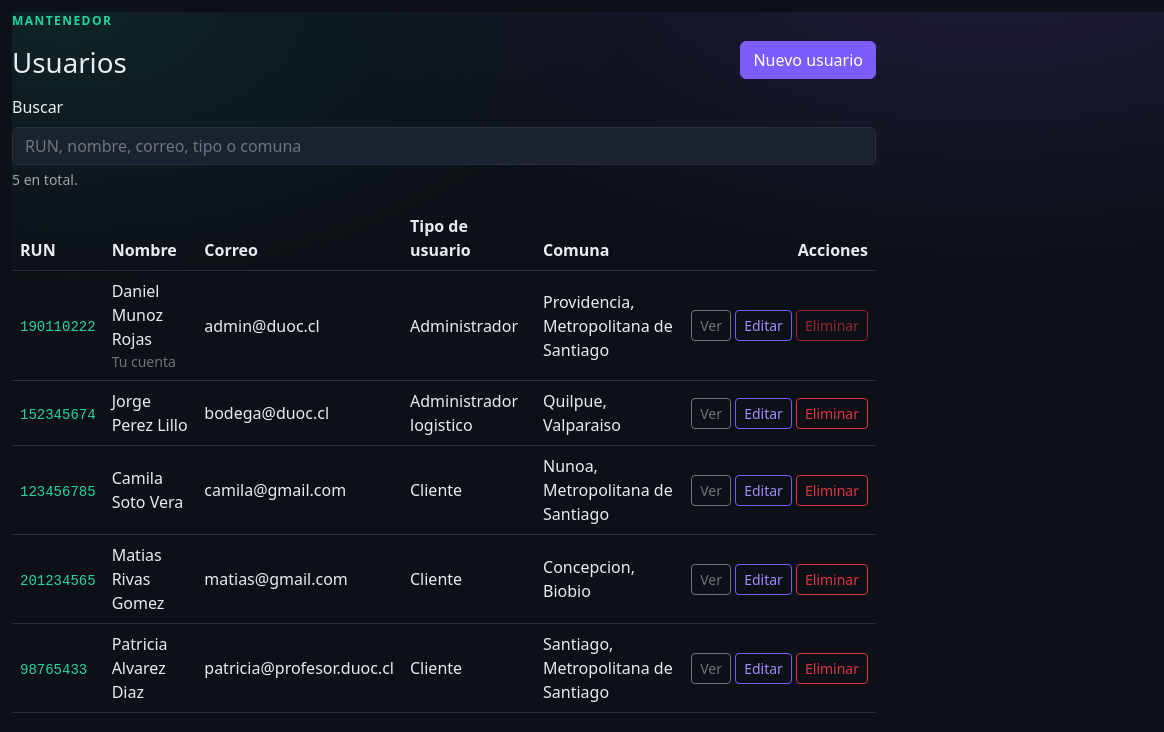
Scenario: admin / Usuarios › la busqueda filtra por nombre, correo, tipo o comuna y actualiza el conteo
In the search field labelled "Buscar": (444, 146) [12,127,876,165], type "matias"
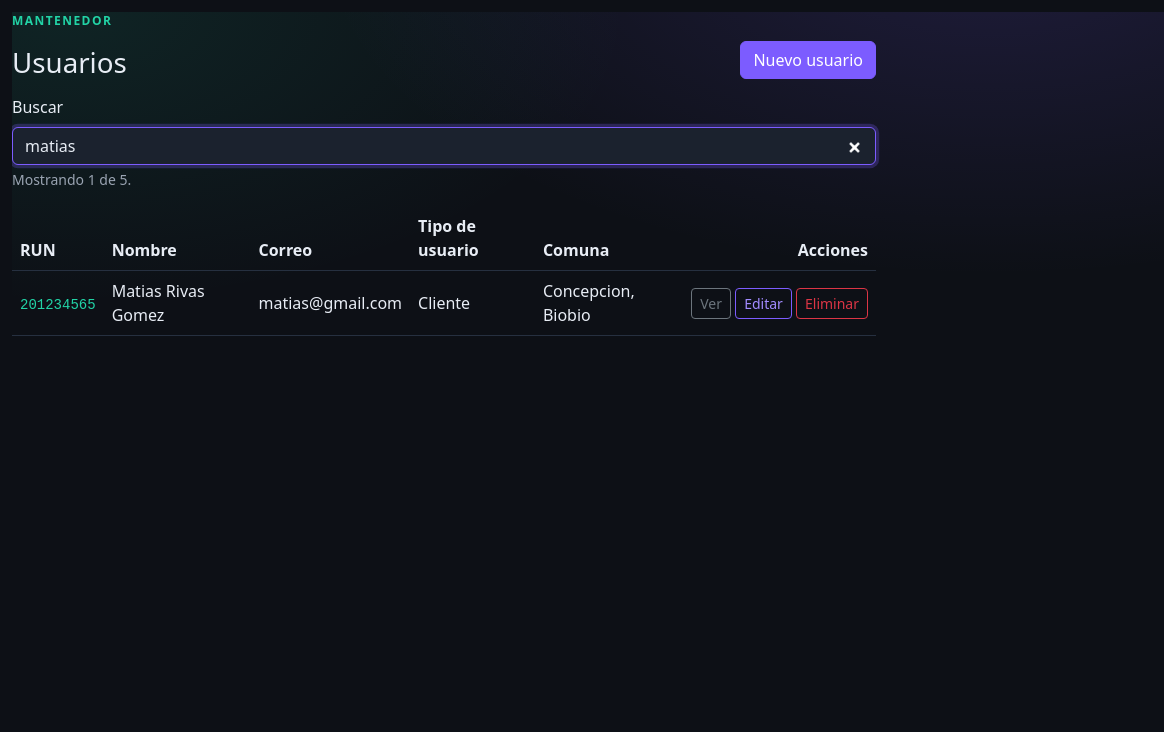
Now the number of rows is 2, box [12,206,876,271]; [12,271,876,336]
